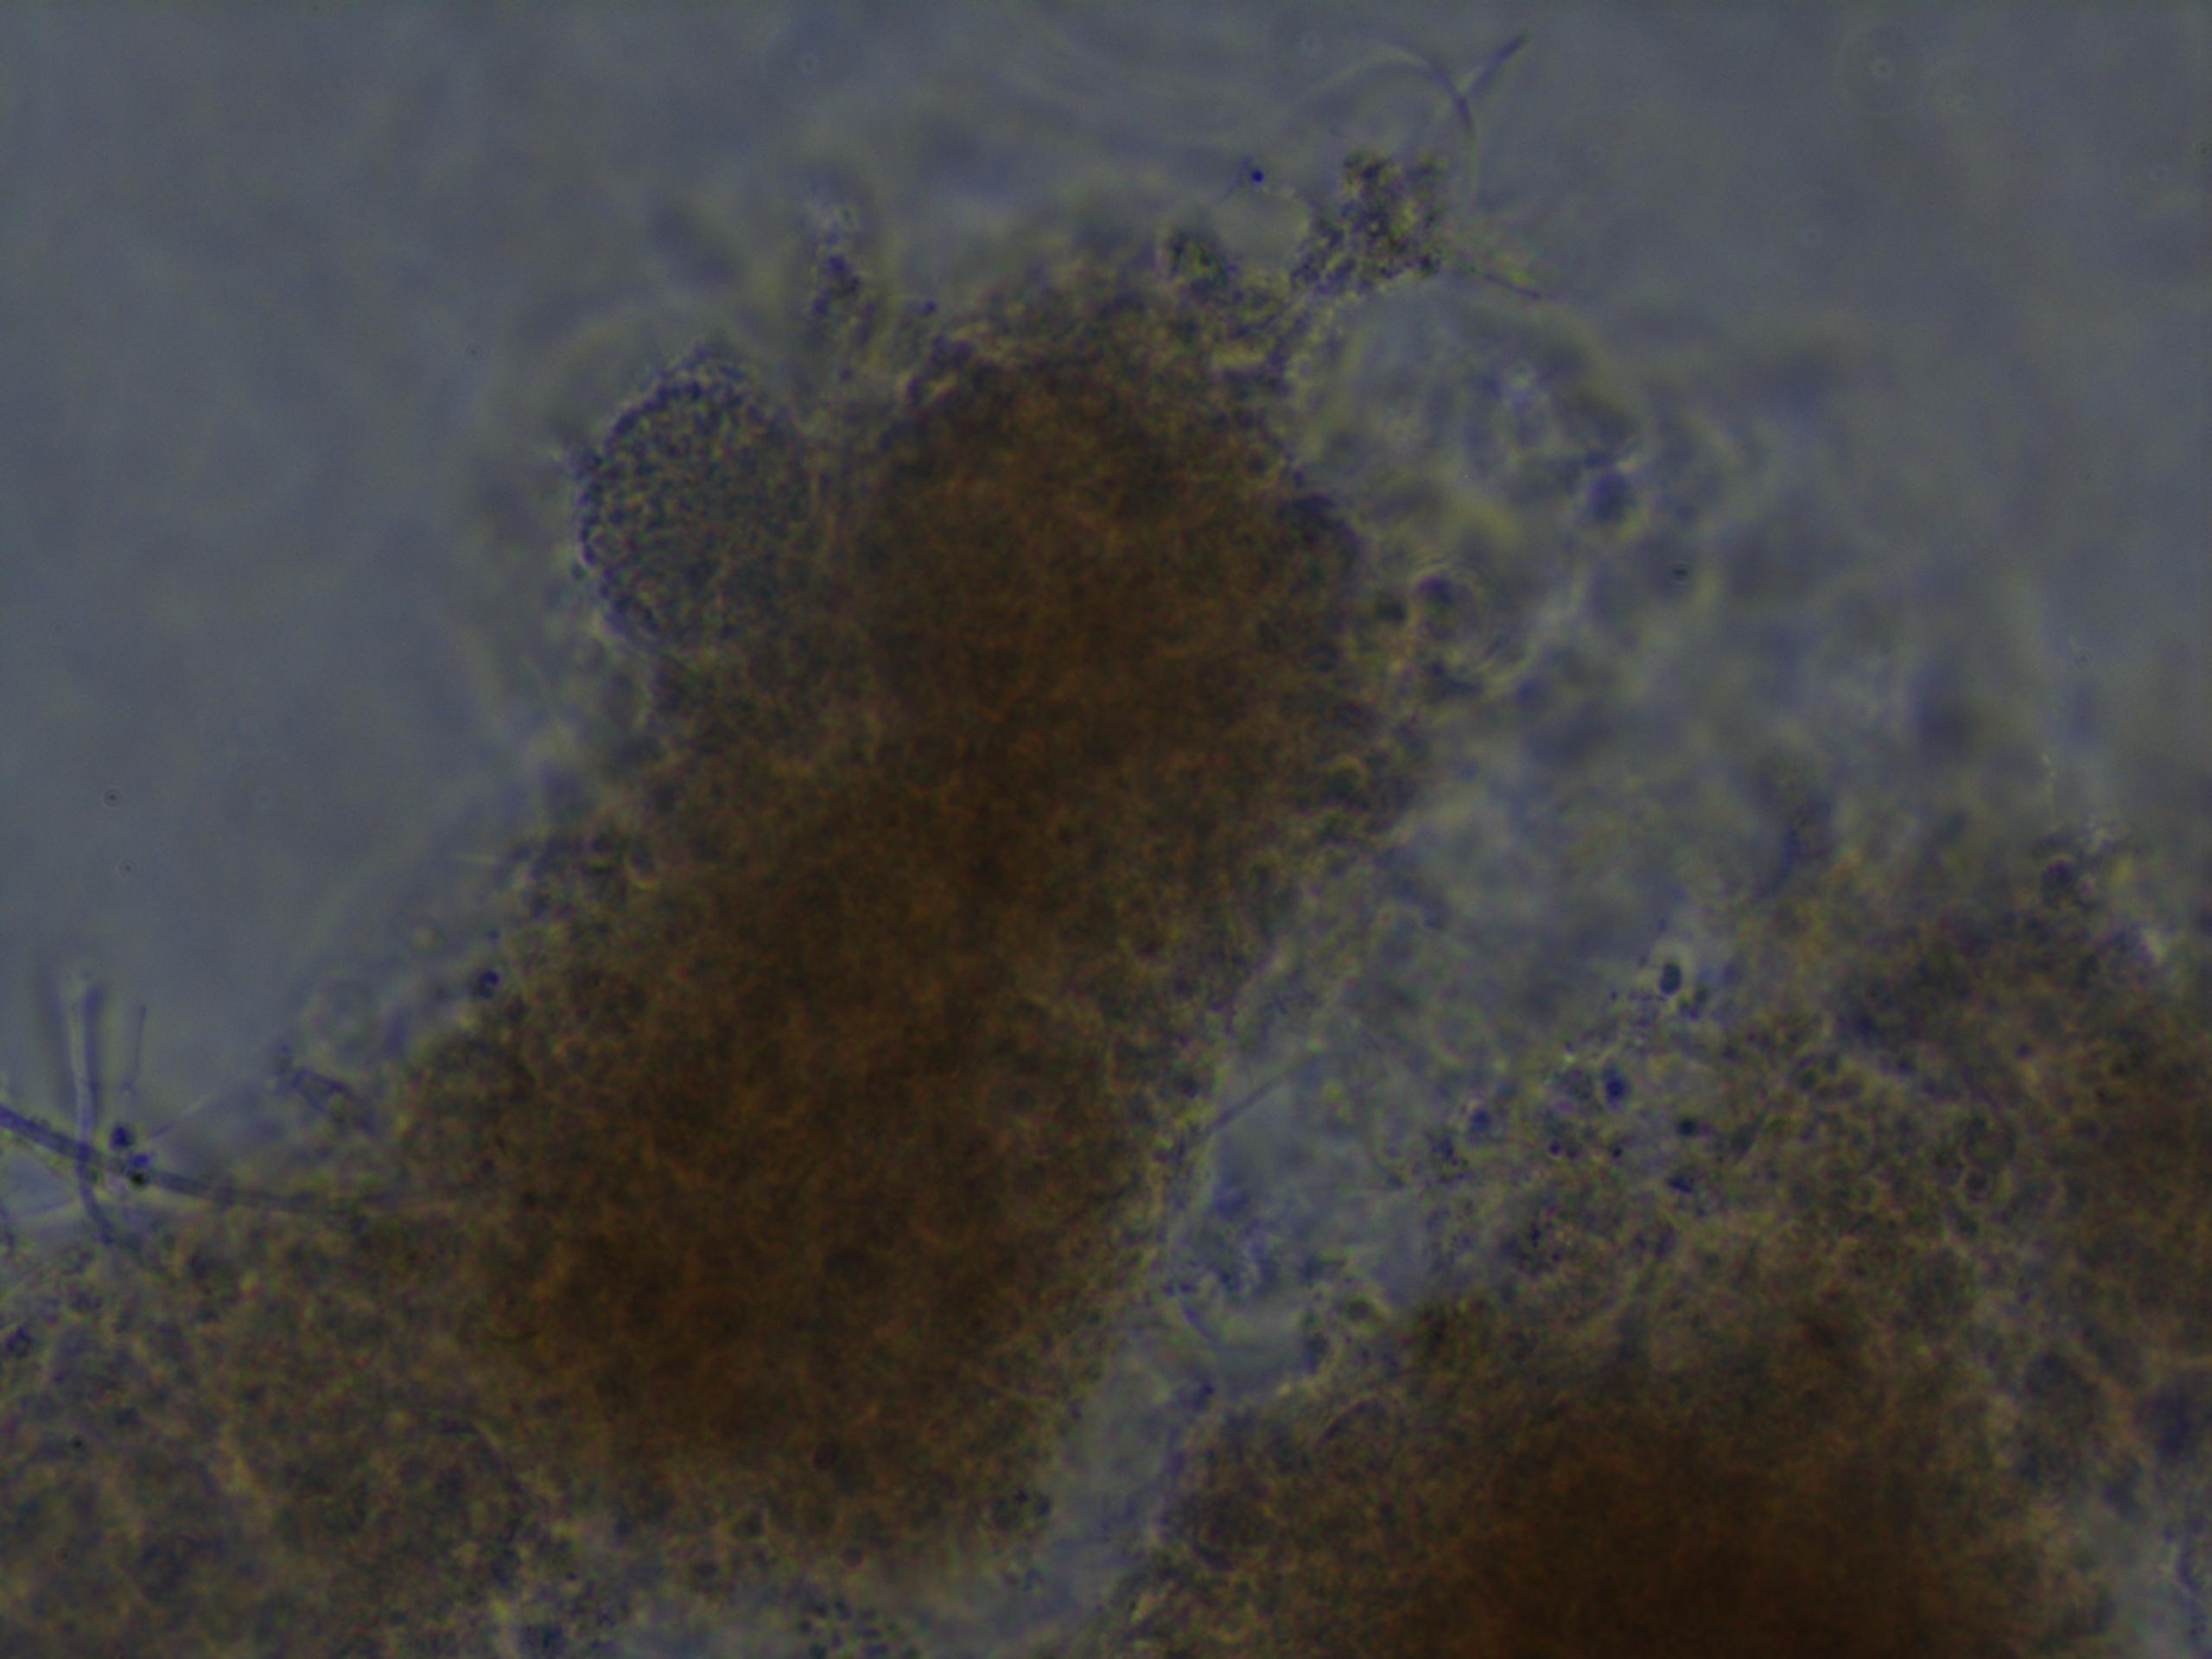filament: (0, 972, 444, 1234), (1259, 24, 1533, 383)
spherical_floc: (392, 303, 1414, 1595)
